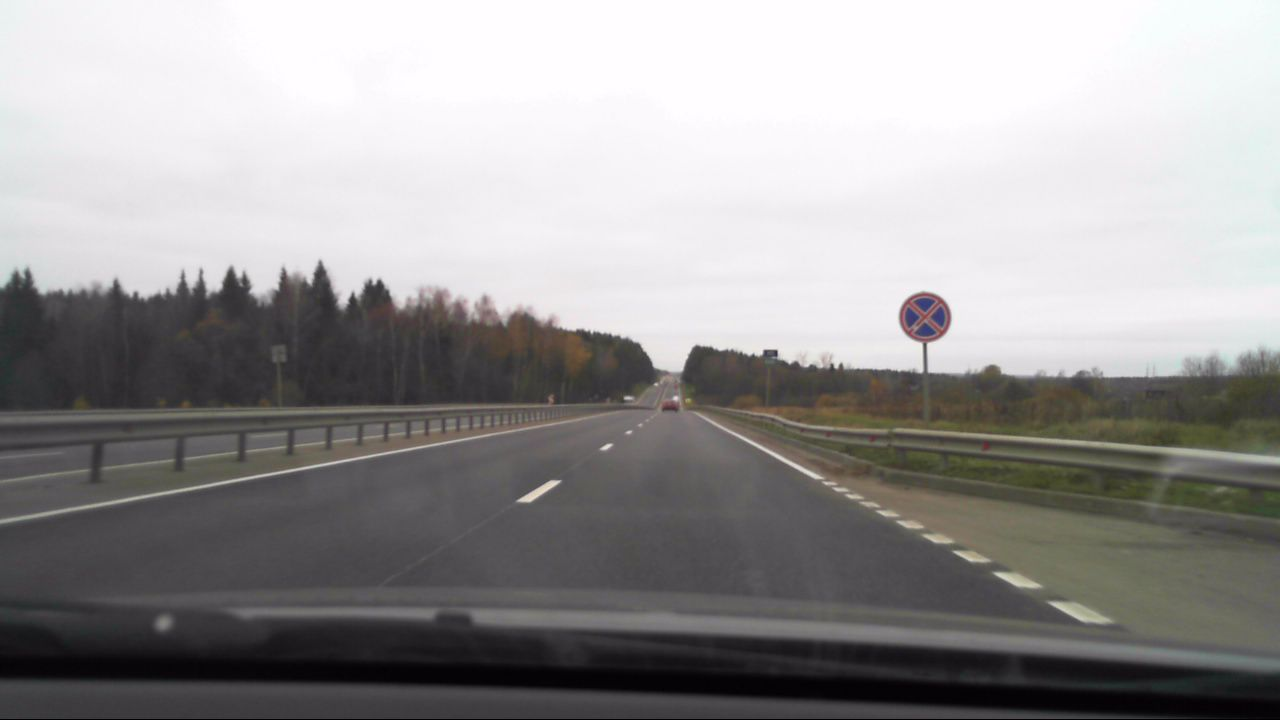No Parking: (900, 292, 952, 342)
